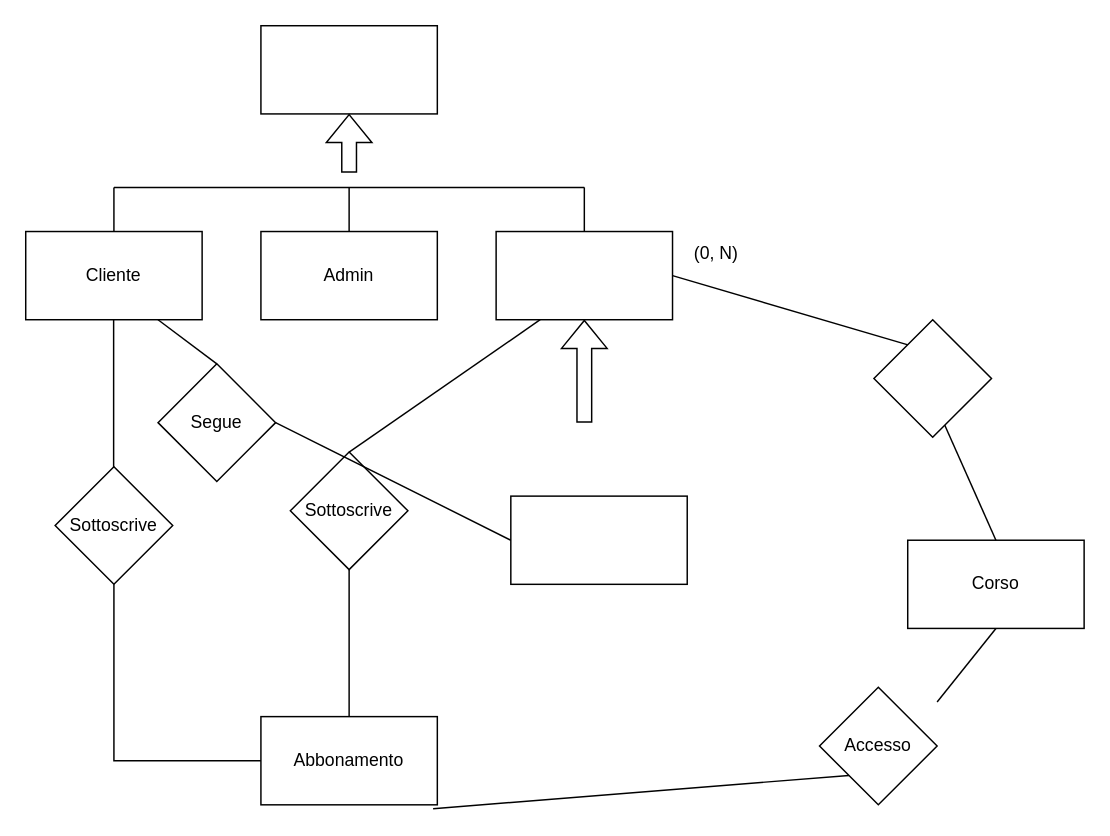
Some shapes in this 1110 by 836 pixel diagram are drawn without their labels. The centre of each missing label's shape, as x and y in pixels:
"Istruisce" goes at pixel 932 377.
"Istruttore" goes at pixel 584 275.
"Personal Trainer" goes at pixel 598 539.
"Utente" goes at pixel 348 69.
